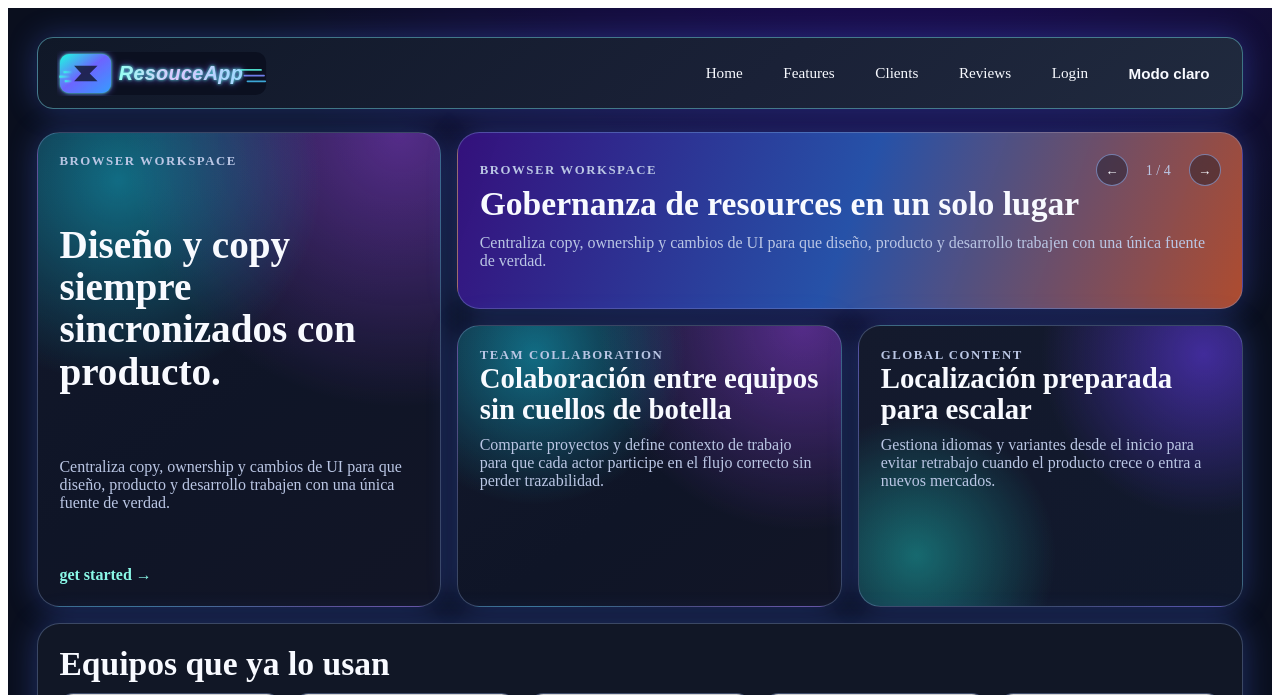
Test: App Home/Login/Projects flow › toggles color mode from menu
What coordinates should you click on to do the following:
click the button with aria-label "Cambiar modo de color"
I would click on:
 (1169, 73)
Its box is 1115,56 -> 1223,91.
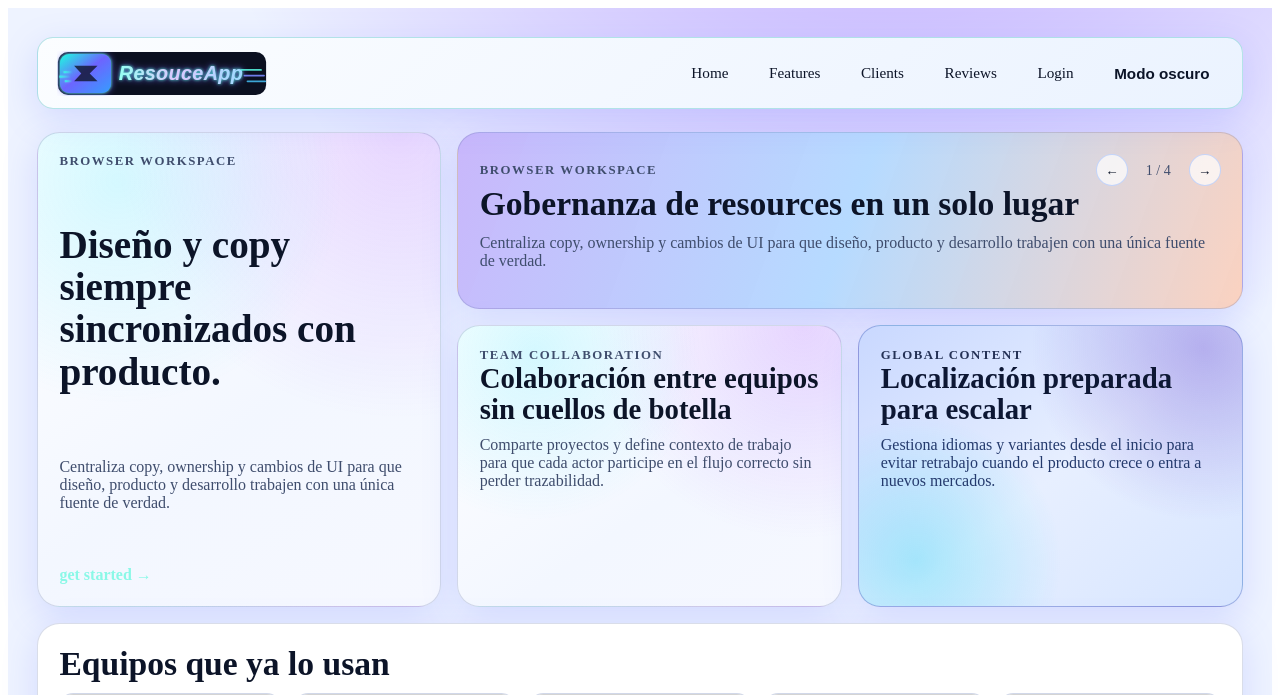
Result: the button with aria-label "Cambiar modo de color" reads "Modo oscuro" at 1101,56 -> 1223,91
